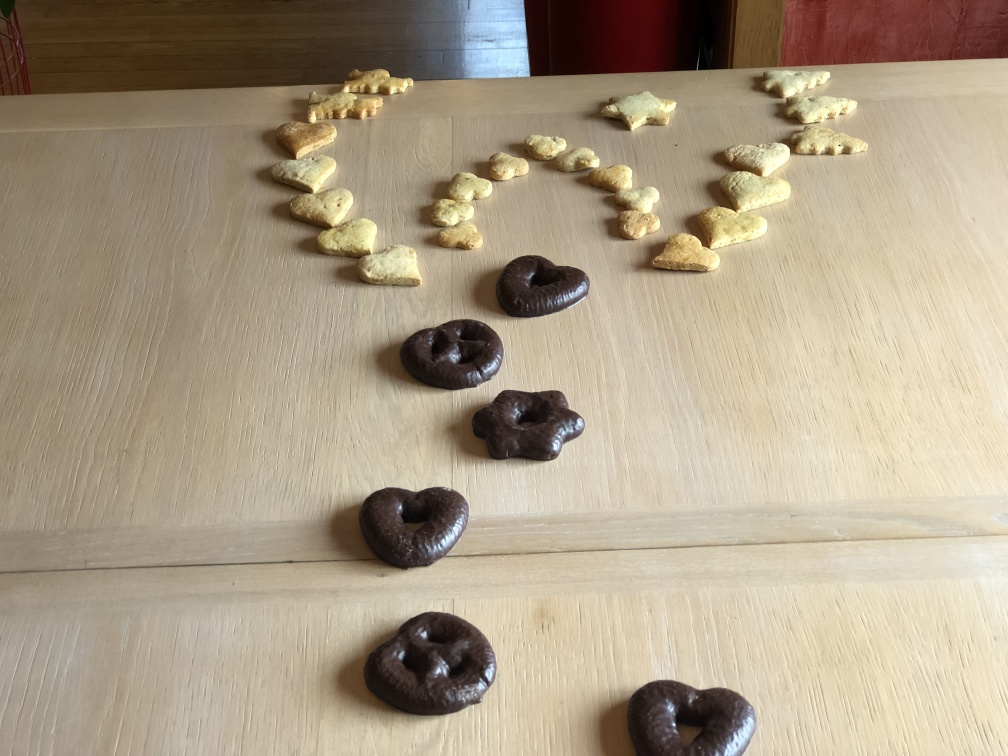bretzel: (363, 603, 500, 724), (400, 313, 506, 392)
christmas tree: (790, 121, 872, 168), (780, 87, 861, 126), (756, 65, 834, 95)
flake: (426, 215, 487, 258), (576, 160, 635, 200), (610, 202, 664, 244), (482, 145, 532, 190), (521, 129, 574, 171), (439, 163, 497, 200), (424, 195, 485, 228), (610, 182, 671, 215)
heart: (616, 674, 756, 756), (355, 484, 468, 574), (493, 249, 589, 323), (721, 163, 803, 221), (647, 228, 722, 286), (355, 240, 426, 294), (700, 197, 776, 247), (721, 134, 798, 181), (260, 152, 339, 197), (313, 211, 385, 260), (279, 187, 355, 231), (266, 115, 342, 157)
santa claus: (301, 86, 387, 131), (343, 65, 416, 97)
star: (474, 386, 587, 468), (600, 84, 679, 139)
